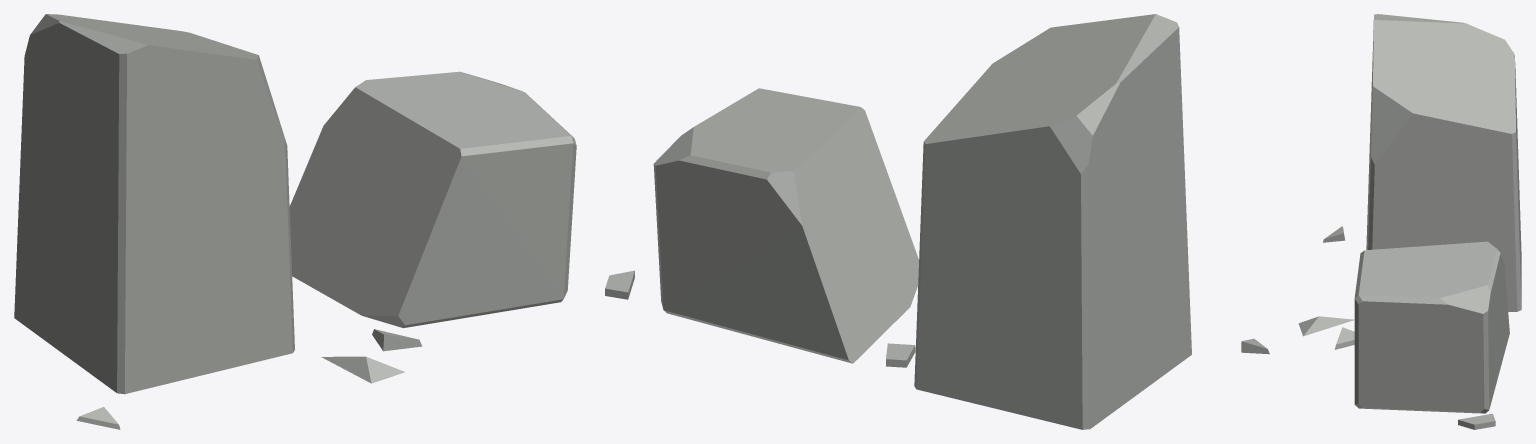
File: Rock_Square_crk_m_06 2.fbx
The picture shows the model from 3 angles, left to right: view 1: azimuth 30°, elevation 25°; view 2: azimuth 150°, elevation 25°; view 3: azimuth 270°, elevation 25°; orthographic projection. The views are drawn at different scales.
Parts seen in each view (by area): view 1: Rock_Square_crk_m_06; view 2: Rock_Square_crk_m_06; view 3: Rock_Square_crk_m_06.
Boxes of the visible parts, x1,y1,x2,y2 form: Rock_Square_crk_m_06: (14, 14, 576, 429); Rock_Square_crk_m_06: (605, 14, 1269, 429); Rock_Square_crk_m_06: (1298, 14, 1521, 429).
Bounding box in the file's own units: 150 × 86.49 × 70.38.
